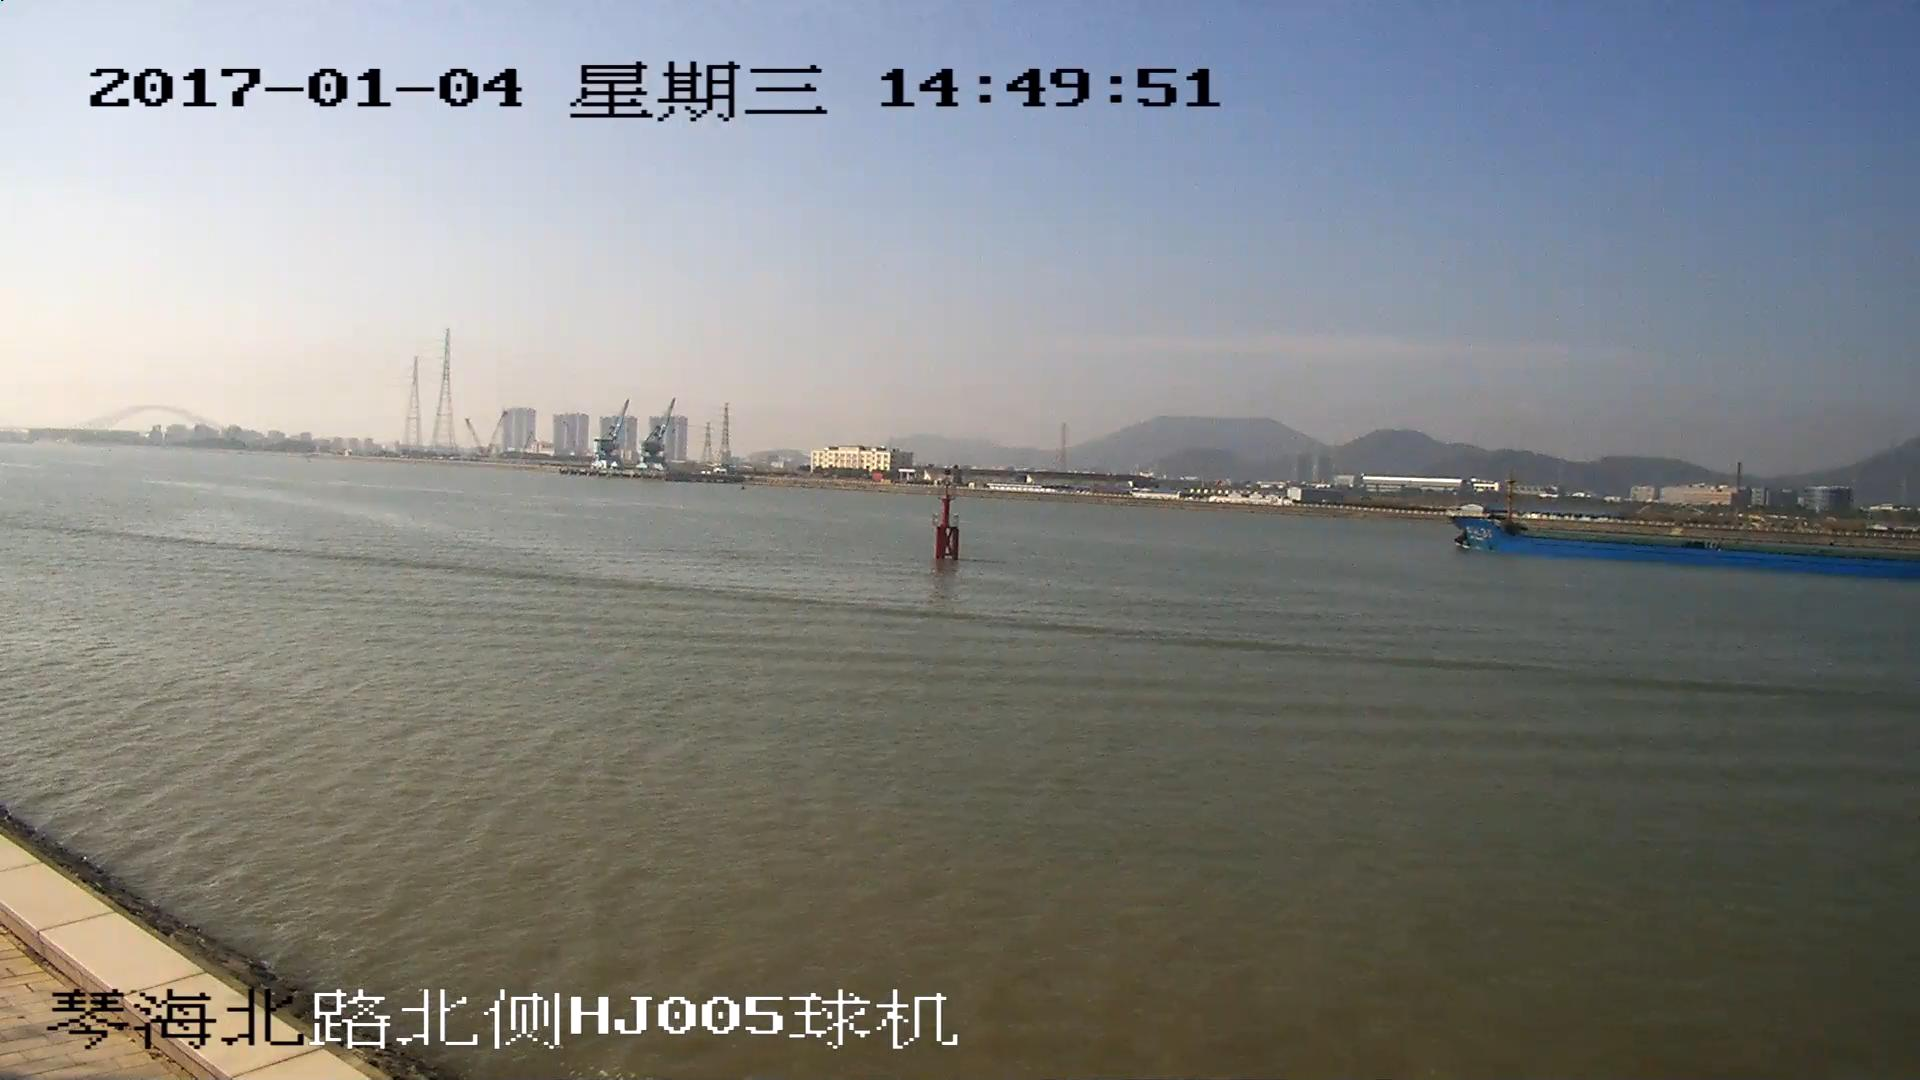general cargo ship: (1447, 479, 1920, 582)
